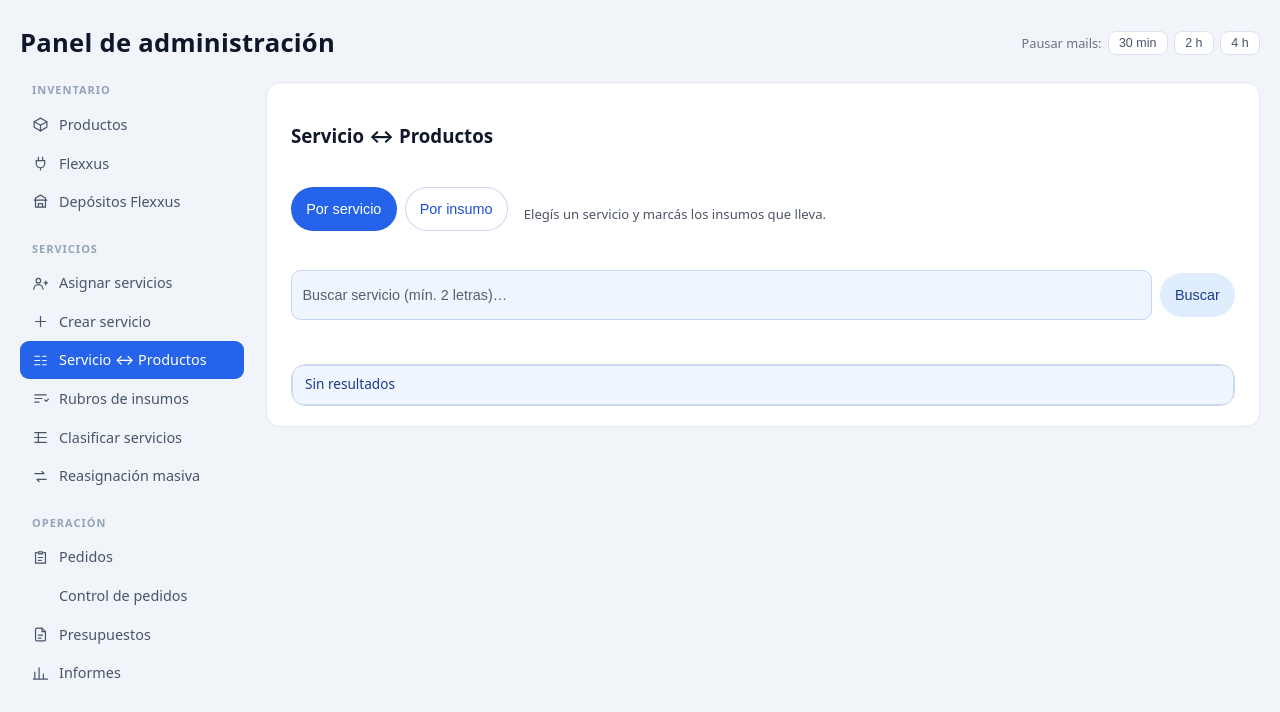
Servicio ↔ Productos — por servicio › avisa cuando hay cambios sin guardar y no deja guardar si no hay ninguno
Type "hospital" into the field labelled "Buscar servicio" at (721, 296), box [291, 270, 1152, 320]
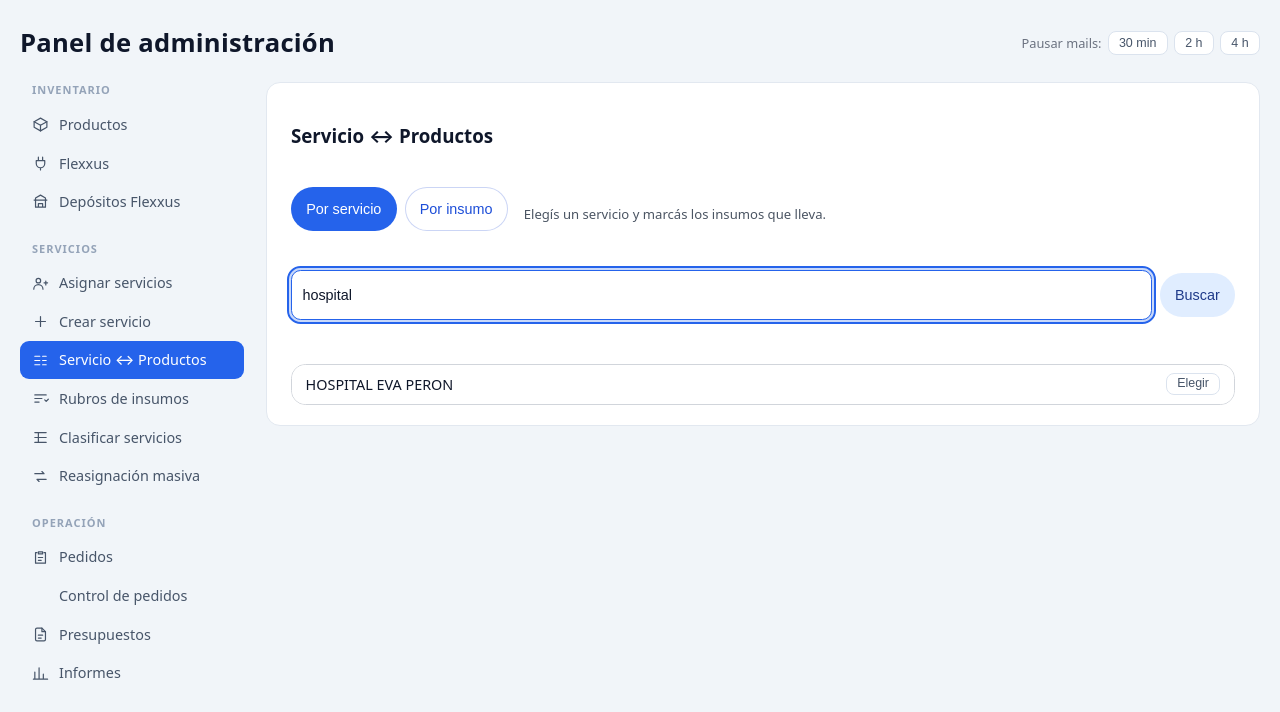
Click the button "Elegir" at (1193, 384), box [1166, 374, 1220, 395]
(page scrolled)
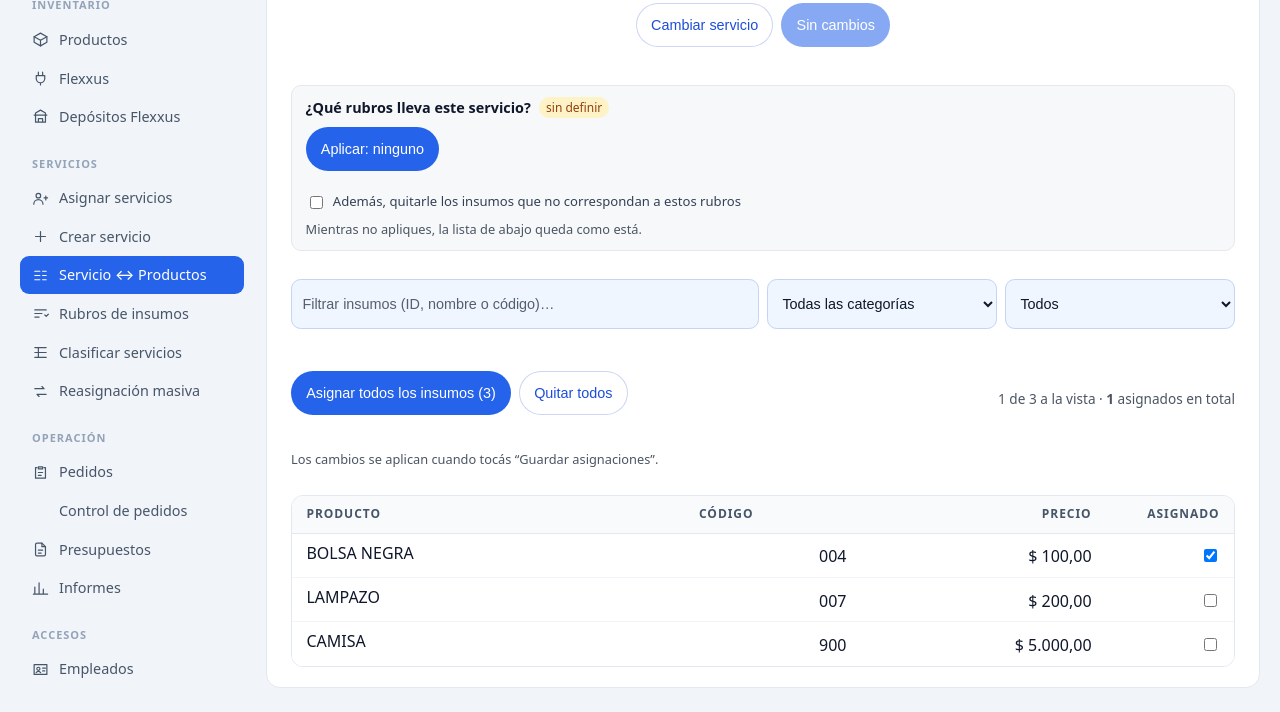
Result: the field labelled "Filtrar insumos" is shown at [291, 279, 759, 329]
Result: the button "Sin cambios" is disabled at [781, 3, 890, 47]
Click the checkbox named "Asignar LAMPAZO" at (1210, 600), box [1204, 594, 1217, 606]
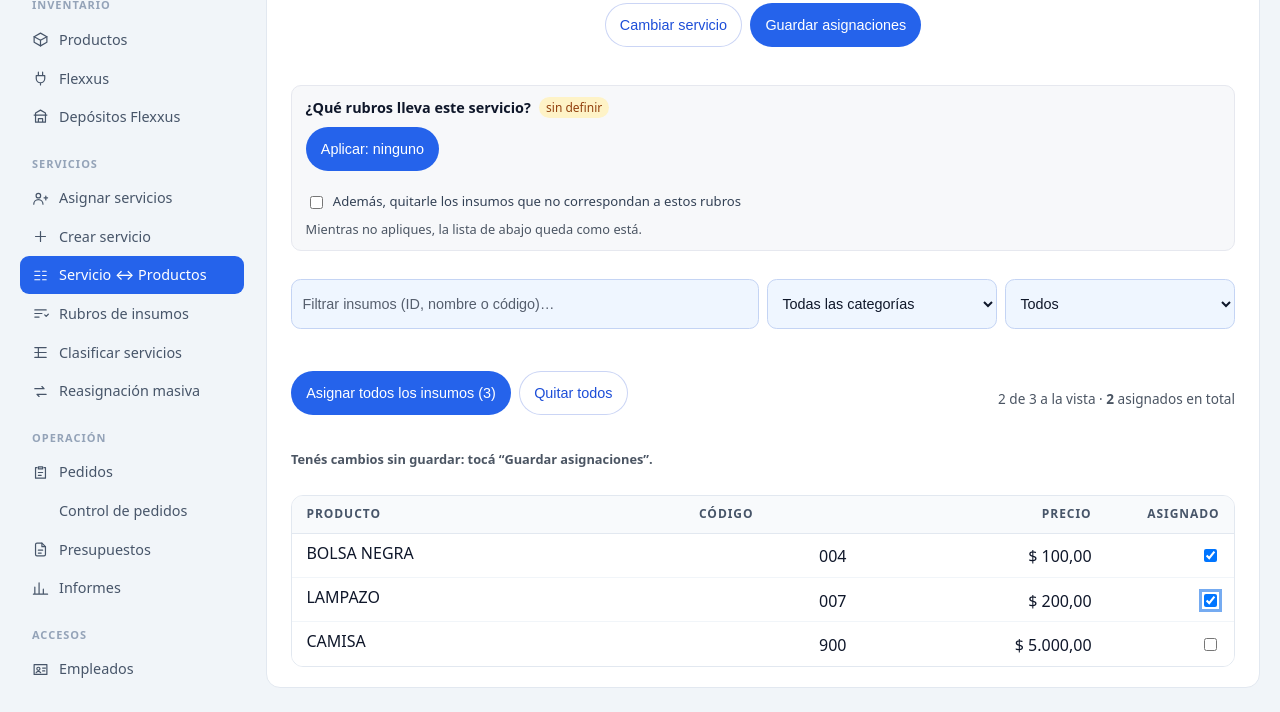
Result: the text "Tenés cambios sin guardar: tocá “Guardar asignaciones”." is shown at [291, 450, 653, 468]
Result: the button "Guardar asignaciones" is enabled at [750, 3, 921, 47]
